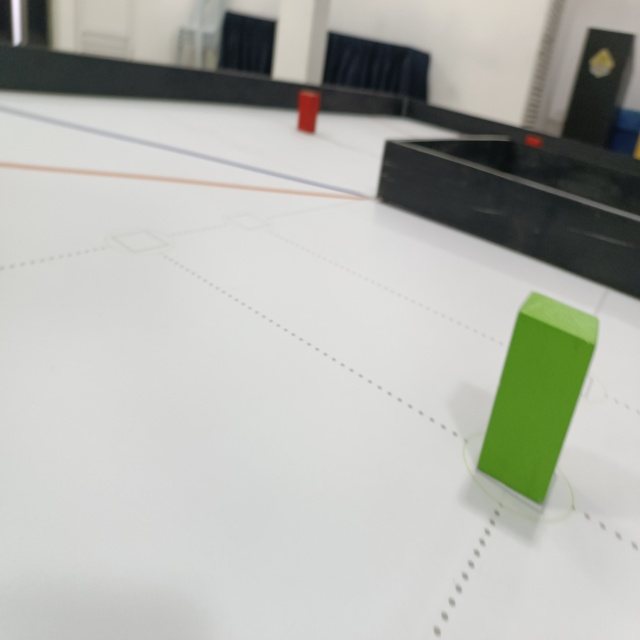blue line: (1, 109, 371, 199)
green rectangular prism: (472, 288, 598, 507)
orange line: (1, 163, 371, 202)
red rectangular prism: (293, 93, 325, 134)
